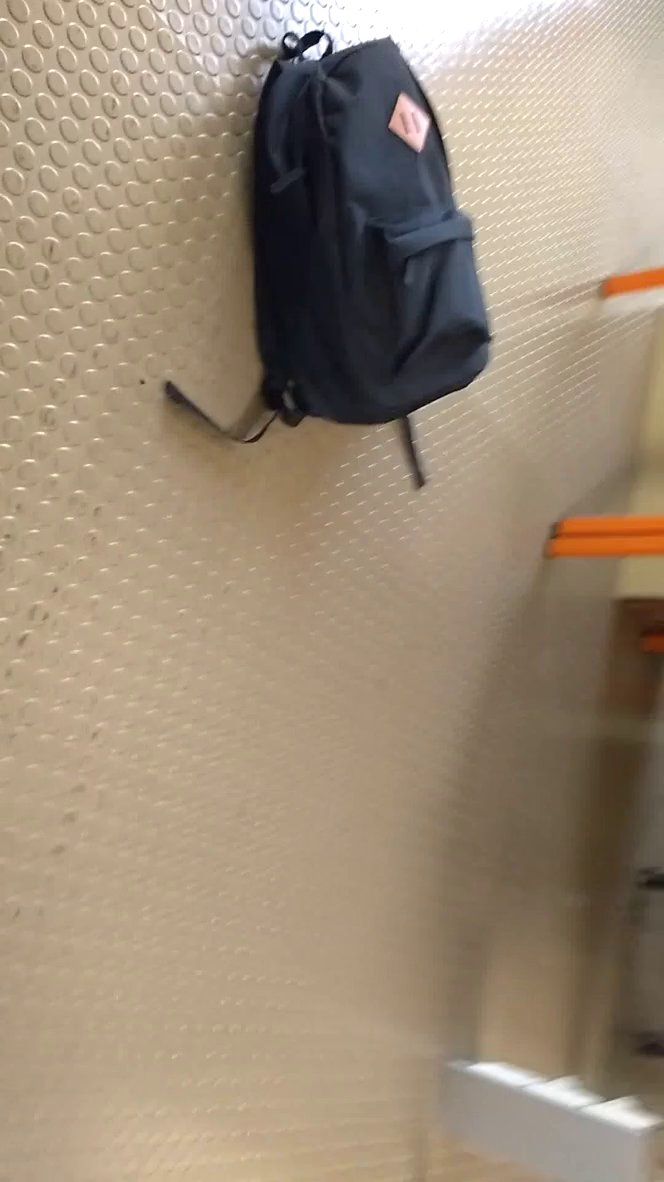bag: (159, 20, 514, 508)
